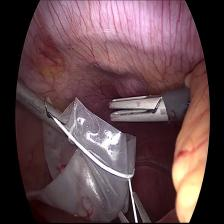Grasper: (16, 86, 66, 136), (106, 90, 170, 129), (119, 189, 150, 224)
Specimen Bag: (29, 99, 134, 224)
